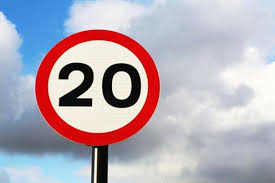sp20: (42, 41, 155, 141)
